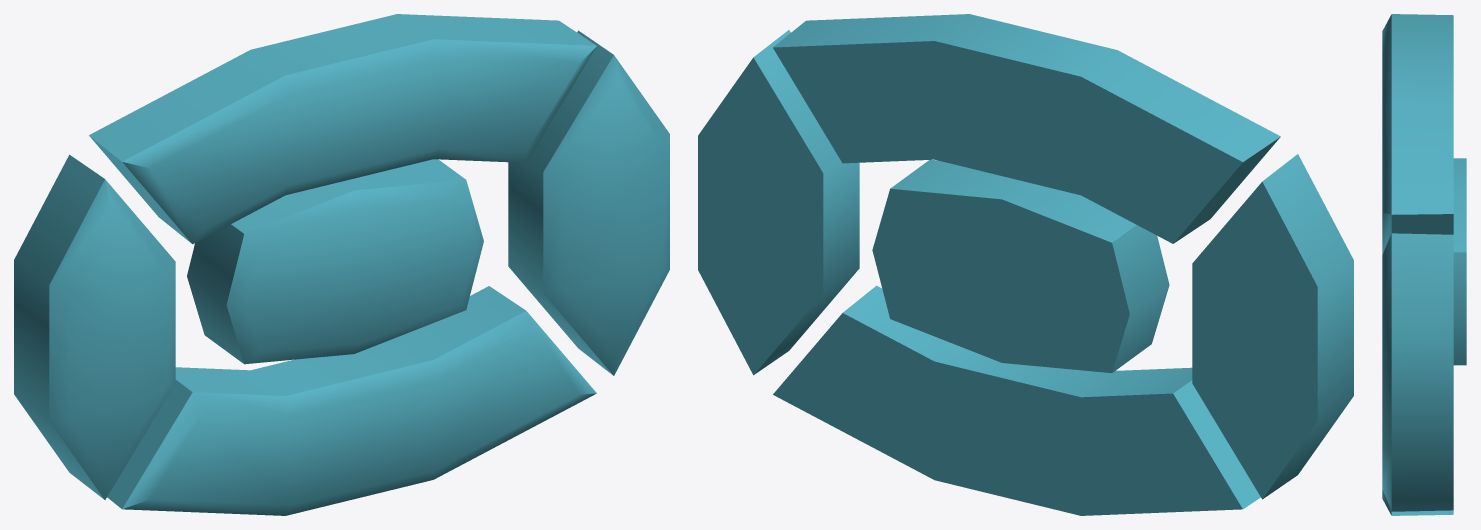
File: MeshRemotebuttons2_1_GeomSubset_2.obj
3 views of the same model, side by side, from view 1: azimuth 30°, elevation 25°; view 2: azimuth 150°, elevation 25°; view 3: azimuth 270°, elevation 25° (orthographic). The views are drawn at different scales.
Visible parts, largest first — view 1: MeshRemotebuttons2_1_GeomSubset_2; view 2: MeshRemotebuttons2_1_GeomSubset_2; view 3: MeshRemotebuttons2_1_GeomSubset_2.
Part boxes in pixels (left/top/right/bottom): MeshRemotebuttons2_1_GeomSubset_2: left=14, top=14, right=669, bottom=515; MeshRemotebuttons2_1_GeomSubset_2: left=698, top=14, right=1353, bottom=515; MeshRemotebuttons2_1_GeomSubset_2: left=1382, top=14, right=1466, bottom=515.
Bounding box in the file's own units: 0.0406 × 0.0276 × 0.0055.
